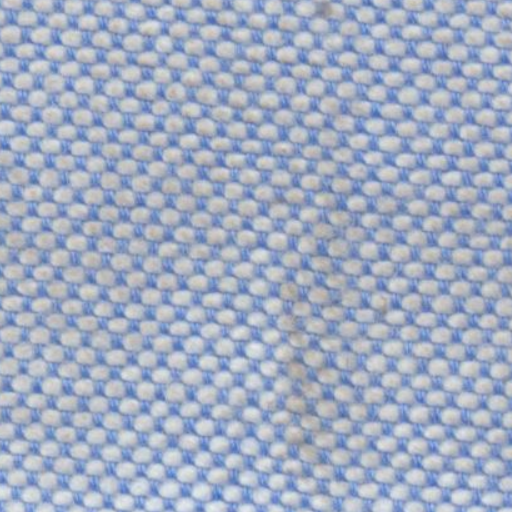WuZi: (12, 62, 424, 482)
